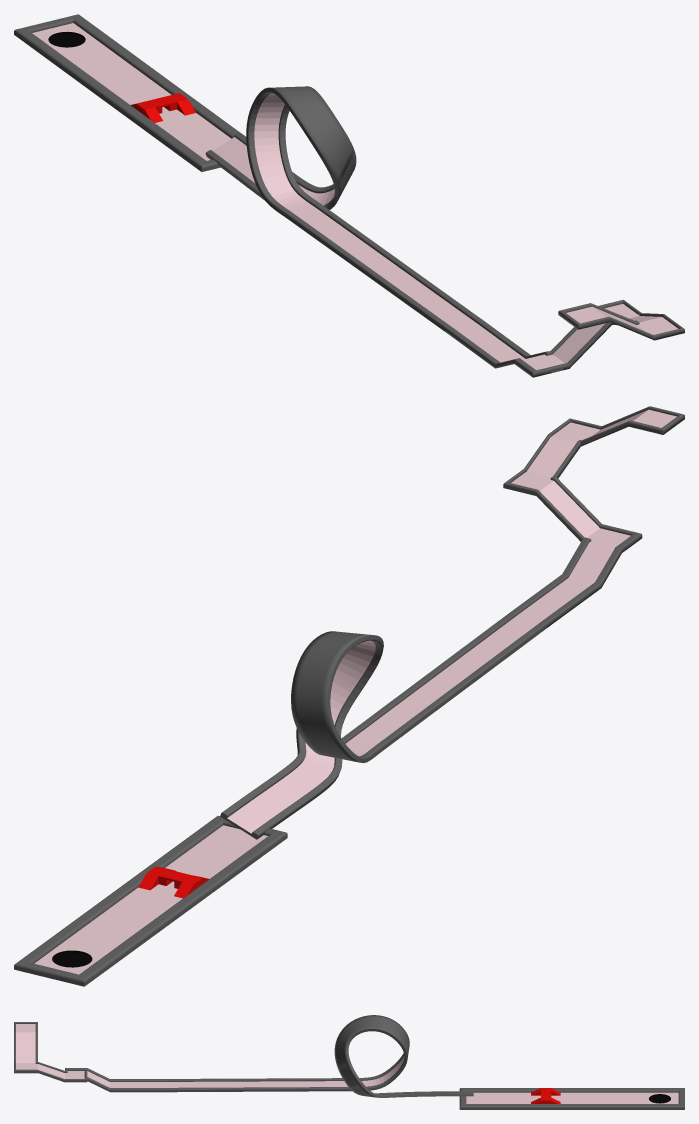
3 views of the same model, one above another, from view 1: azimuth 30°, elevation 25°; view 2: azimuth 150°, elevation 25°; view 3: azimuth 270°, elevation 25° (orthographic). The views are drawn at different scales.
Visible parts, largest first — view 1: walls, Course, obstacle; view 2: walls, Course, obstacle; view 3: walls, Course, obstacle.
Boxes of the visible parts, x1,y1,x2,y2 form: walls: [14, 14, 684, 377]; Course: [32, 23, 678, 370]; obstacle: [130, 93, 195, 122]; walls: [14, 406, 684, 986]; Course: [34, 409, 676, 974]; obstacle: [138, 866, 209, 898]; walls: [14, 1015, 684, 1109]; Course: [16, 1024, 678, 1103]; obstacle: [531, 1088, 560, 1103].
Size of what is drawn, in the model's own units: 633 by 680 by 5319.
